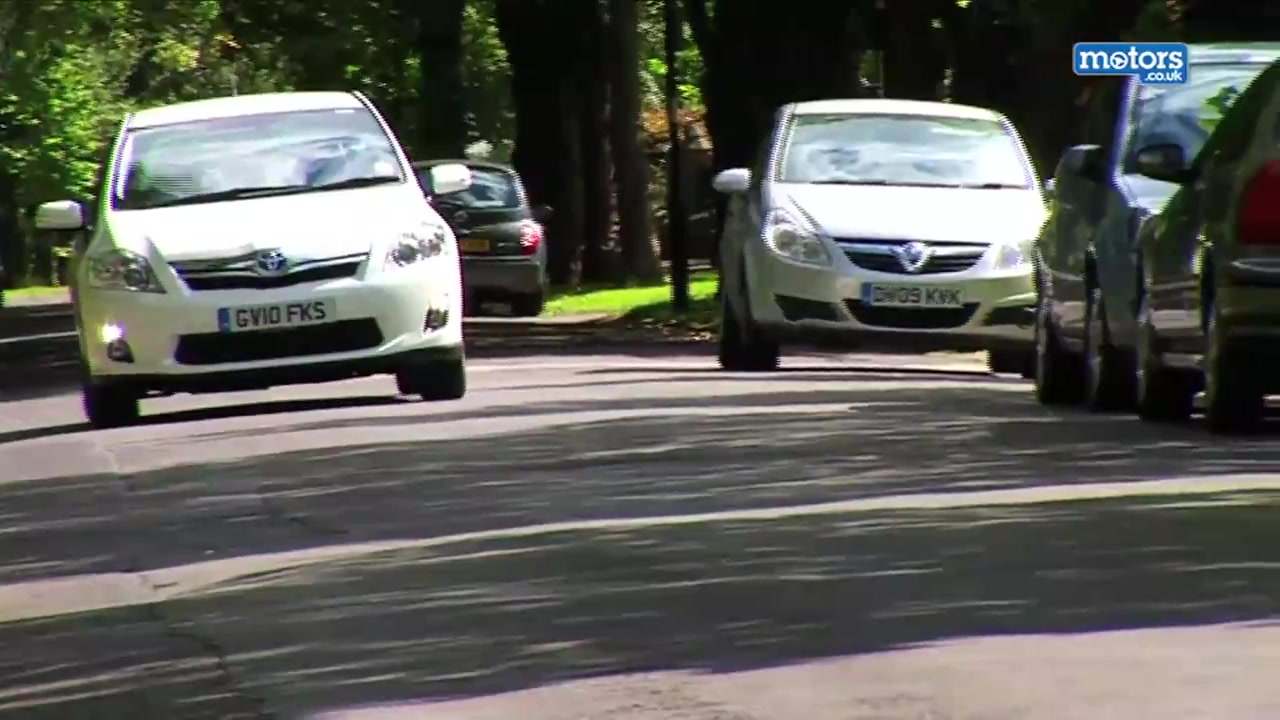car: (37, 89, 479, 430), (708, 89, 1059, 379), (1036, 36, 1280, 420), (1130, 54, 1280, 435), (412, 158, 554, 326)
